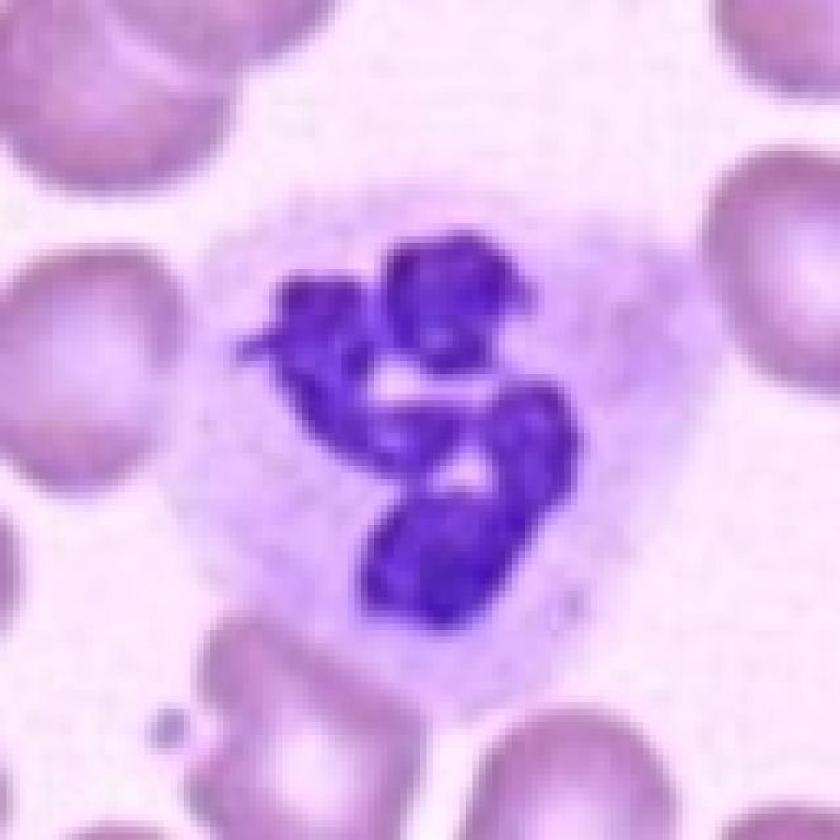neutrophil: (184, 185, 725, 733)
